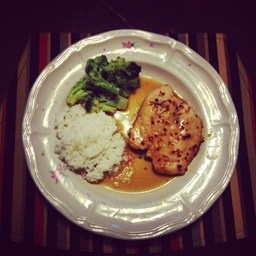background: (21, 21, 82, 73)
